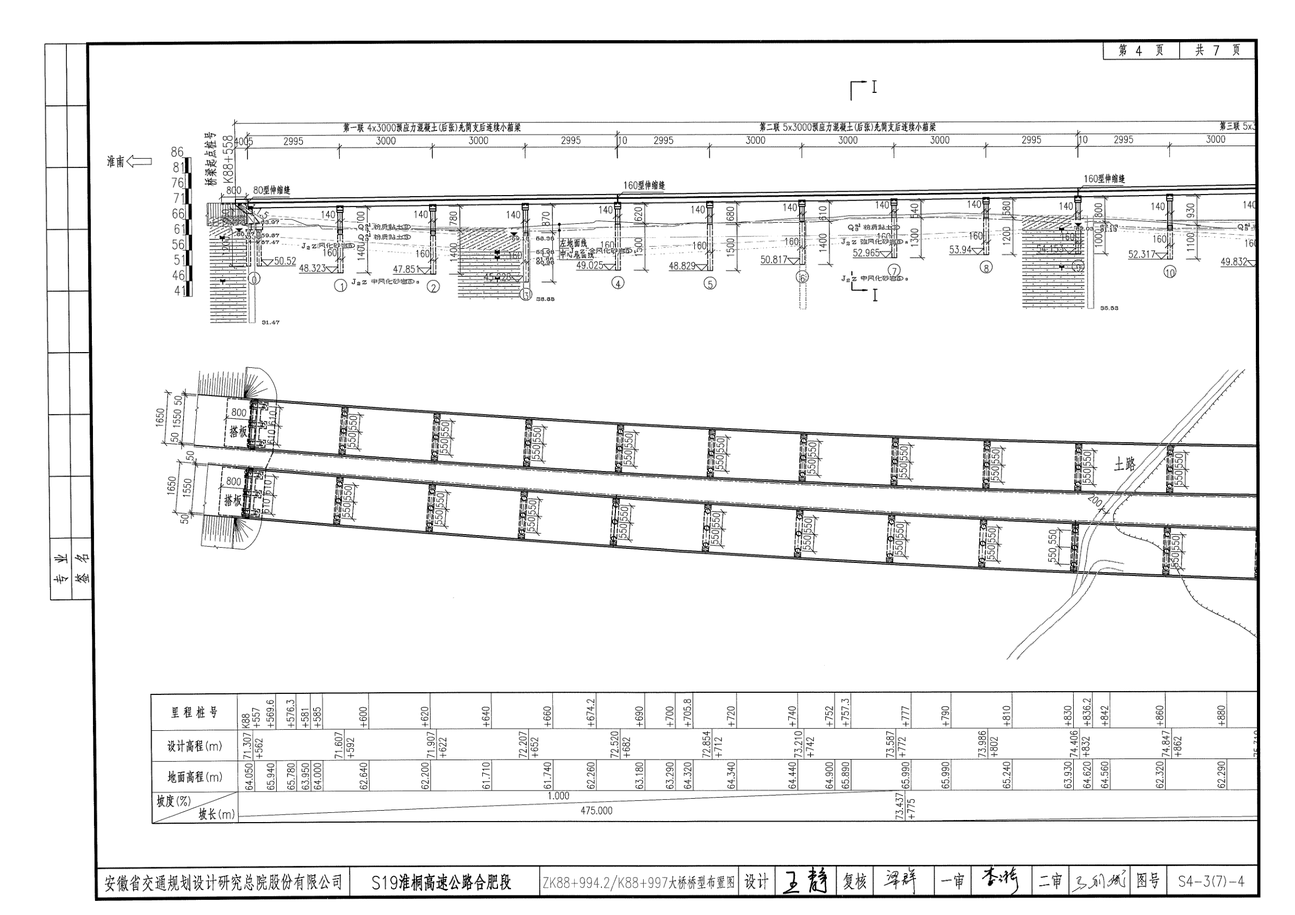A: (105, 76, 1293, 306)
